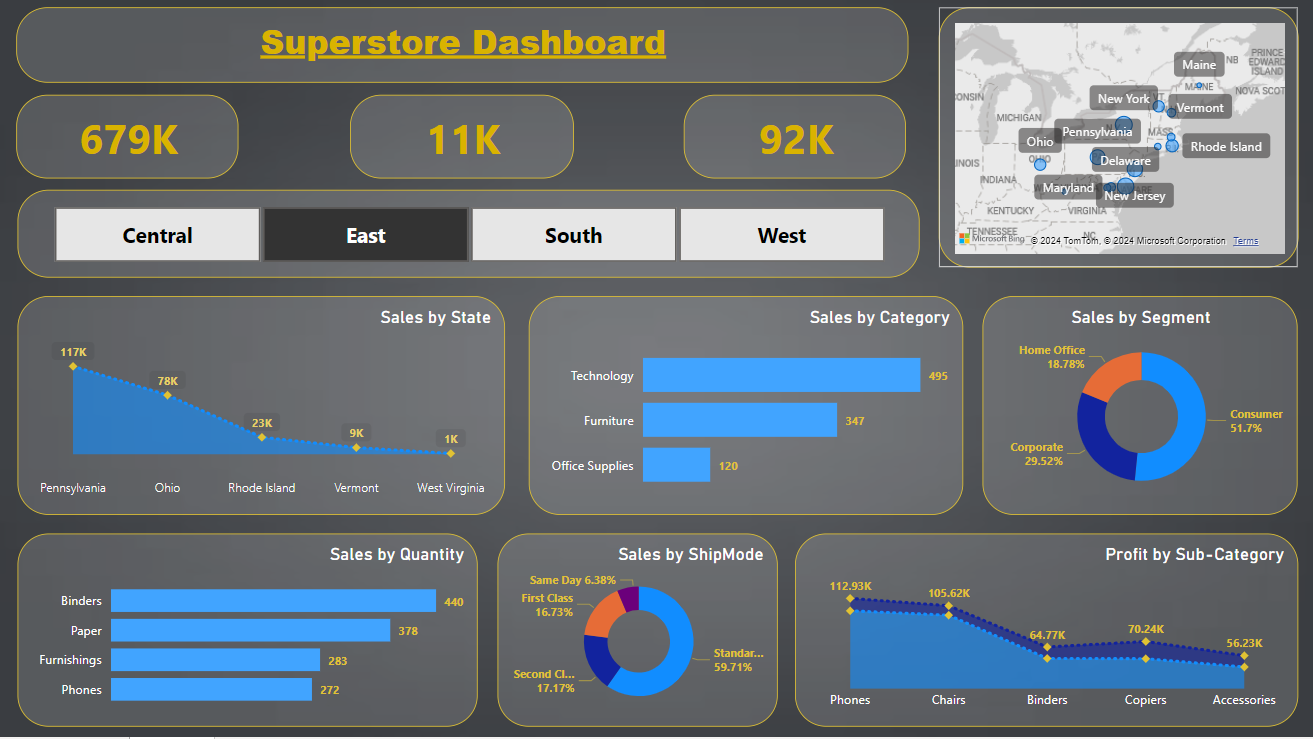

The page's visual inventory and layout, read from the dashboard file:
{"tool":"powerbi","page":{"name":"TSF - ","canvas":[1280,720],"ordinal":0},"visuals":[{"type":"clusteredBarChart","title":"Sales by Category","fields":{"Y":["Avg(SampleSuperstore.Sales)"],"Category":["SampleSuperstore.Category"]},"box":[515.5,294.8,419.5,211.1],"z":0},{"type":"clusteredBarChart","title":"Sales by Quantity","fields":{"Y":["CountNonNull(SampleSuperstore.Quantity)"],"Category":["SampleSuperstore.Sub-Category"]},"box":[21.9,523.7,444.2,186.5],"z":1000},{"type":"stackedAreaChart","title":"Sales by State","fields":{"Y":["Sum(SampleSuperstore.Sales)"],"Category":["SampleSuperstore.State"]},"box":[21.9,294.8,470.3,211.1],"z":3000},{"type":"stackedAreaChart","title":"Profit by Sub-Category","fields":{"Y":["Sum(SampleSuperstore.Sales)","Sum(SampleSuperstore.Profit)"],"Category":["SampleSuperstore.Sub-Category"]},"box":[771.9,523.7,485.4,186.5],"z":4000},{"type":"donutChart","title":"Sales by Segment","fields":{"Y":["Sum(SampleSuperstore.Sales)"],"Category":["SampleSuperstore.Segment"]},"box":[952.9,294.8,304.4,211.1],"z":5000},{"type":"donutChart","title":"Sales by ShipMode","fields":{"Y":["Sum(SampleSuperstore.Sales)"],"Category":["SampleSuperstore.Ship Mode"]},"box":[485.4,523.7,270.1,186.5],"z":6000},{"type":"textbox","title":"Superstore Dashboard","box":[20,15.1,861,72.7],"z":7000},{"type":"card","fields":{"Values":["Sum(SampleSuperstore.Sales)"]},"box":[20.5,100.1,214.7,80.8],"z":8000},{"type":"card","fields":{"Values":["Sum(SampleSuperstore.Quantity)"]},"box":[342.5,100.1,215.9,80.8],"z":9000},{"type":"card","fields":{"Values":["Sum(SampleSuperstore.Profit)"]},"box":[664.5,100.1,214.7,80.8],"z":10000},{"type":"slicer","fields":{"Values":["SampleSuperstore.Region"]},"box":[21.9,191.9,870.6,85],"z":11000},{"type":"map","fields":{"Size":["Max(SampleSuperstore.Sales)"],"Category":["SampleSuperstore.State"]},"box":[910.4,15.1,346.9,250.9],"z":12000}]}

Visuals, with their boxes in screenshot pixels (x1, y1, x2, y2), scaled from the page's 1280x720 canvas onto the 1313x739 screenshot:
"Sales by Category" clusteredBarChart: x1=529, y1=303, x2=959, y2=519
"Sales by Quantity" clusteredBarChart: x1=22, y1=538, x2=478, y2=729
"Sales by State" stackedAreaChart: x1=22, y1=303, x2=505, y2=519
"Profit by Sub-Category" stackedAreaChart: x1=792, y1=538, x2=1290, y2=729
"Sales by Segment" donutChart: x1=977, y1=303, x2=1290, y2=519
"Sales by ShipMode" donutChart: x1=498, y1=538, x2=775, y2=729
"Superstore Dashboard" textbox: x1=21, y1=15, x2=904, y2=90
card - Sum(SampleSuperstore.Sales): x1=21, y1=103, x2=241, y2=186
card - Sum(SampleSuperstore.Quantity): x1=351, y1=103, x2=573, y2=186
card - Sum(SampleSuperstore.Profit): x1=682, y1=103, x2=902, y2=186
slicer - SampleSuperstore.Region: x1=22, y1=197, x2=916, y2=284
map - Max(SampleSuperstore.Sales) x SampleSuperstore.State: x1=934, y1=15, x2=1290, y2=273
